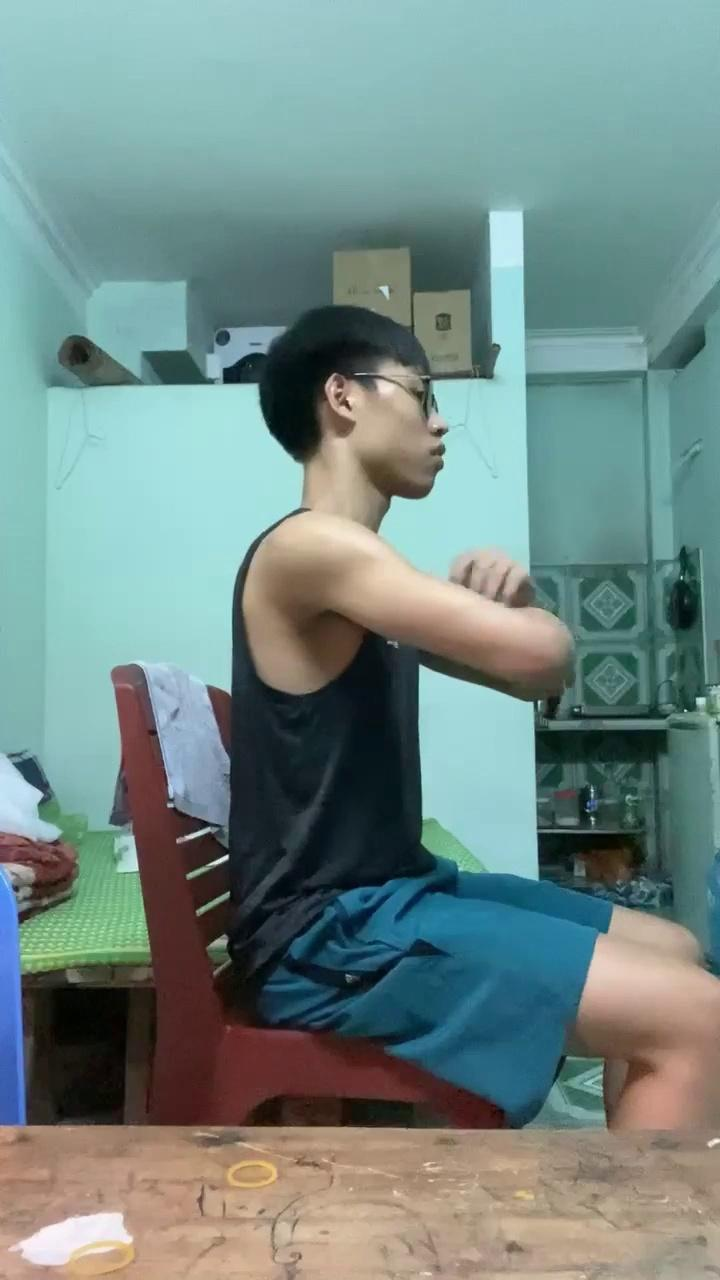GoodPosture: (228, 306, 719, 1053)
